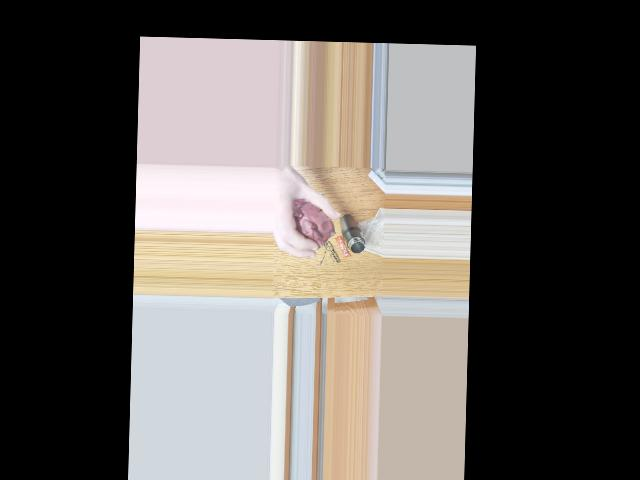onion: (291, 199, 330, 248)
